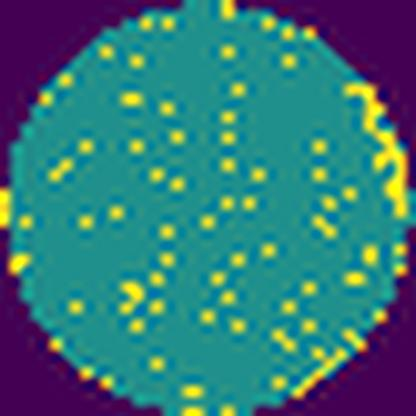Edge-Loc: (343, 74, 416, 217)
